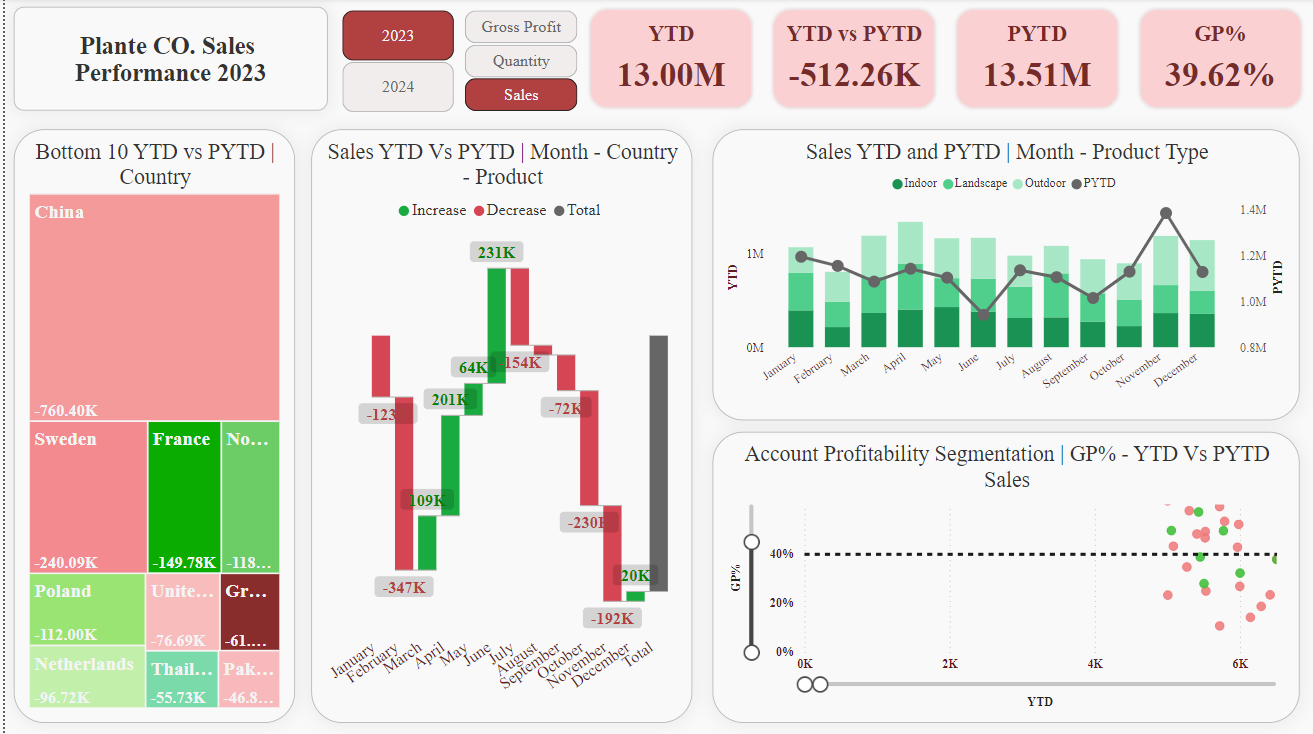

This screenshot's page, from the dashboard's own definition file:
{"tool":"powerbi","page":{"name":"Page 1","canvas":[1280,720],"ordinal":0},"visuals":[{"type":"cardVisual","fields":{"Data":["_Measures.S_YTD","_Measures.YTD vs PYTD","_Measures.S_PYTD","_Measures.GP%"]},"box":[561.3,0,718,119.8],"z":0},{"type":"advancedSlicerVisual","fields":{"Values":["SLC_Values.Values"]},"box":[445,7,120,110.1],"z":1000},{"type":"advancedSlicerVisual","fields":{"Values":["Dim_Date.Date.Variation.Date Hierarchy.Year"]},"box":[325,7,119.8,110.1],"z":2000},{"type":"treemap","title":"Bottom 10 YTD vs PYTD | Country","fields":{"Group":["Dim_Account.country"],"Values":["_Measures.YTD vs PYTD"]},"box":[8.6,128.4,275.1,580.8],"z":3000},{"type":"waterfallChart","fields":{"Y":["_Measures.YTD vs PYTD"],"Category":["Dim_Date.Date.Variation.Date Hierarchy.Month","Dim_Account.country","Dim_Product.Produt_Type","Dim_Product.Product_Name"]},"box":[299.6,128.4,373,580.8],"z":4000},{"type":"lineStackedColumnComboChart","fields":{"Category":["Dim_Date.Date.Variation.Date Hierarchy.Month"],"Y":["_Measures.S_YTD"],"Y2":["_Measures.S_PYTD"],"Series":["Dim_Product.Produt_Type"]},"box":[692.1,128.4,574.7,285],"z":5000},{"type":"scatterChart","fields":{"Y":["_Measures.GP%"],"X":["_Measures.S_YTD"],"Category":["Dim_Account.Account"]},"box":[692.1,424.3,574.7,284.9],"z":6000},{"type":"card","fields":{"Values":["_Measures._ReportTitle"]},"box":[8.6,8,306.9,101.5],"z":7000}]}

Visuals, with their boxes in screenshot pixels (x1, y1, x2, y2), scaled from the page's 1280x720 canvas onto the 1313x734 screenshot:
cardVisual - _Measures.S_YTD x _Measures.YTD vs PYTD: (x1=576, y1=0, x2=1312, y2=122)
advancedSlicerVisual - SLC_Values.Values: (x1=456, y1=7, x2=580, y2=119)
advancedSlicerVisual - Dim_Date.Date.Variation.Date Hierarchy.Year: (x1=333, y1=7, x2=456, y2=119)
"Bottom 10 YTD vs PYTD | Country" treemap: (x1=9, y1=131, x2=291, y2=723)
waterfallChart - _Measures.YTD vs PYTD x Dim_Date.Date.Variation.Date Hierarchy.Month: (x1=307, y1=131, x2=690, y2=723)
lineStackedColumnComboChart - Dim_Date.Date.Variation.Date Hierarchy.Month x _Measures.S_YTD: (x1=710, y1=131, x2=1299, y2=421)
scatterChart - _Measures.GP% x _Measures.S_YTD: (x1=710, y1=433, x2=1299, y2=723)
card - _Measures._ReportTitle: (x1=9, y1=8, x2=324, y2=112)
